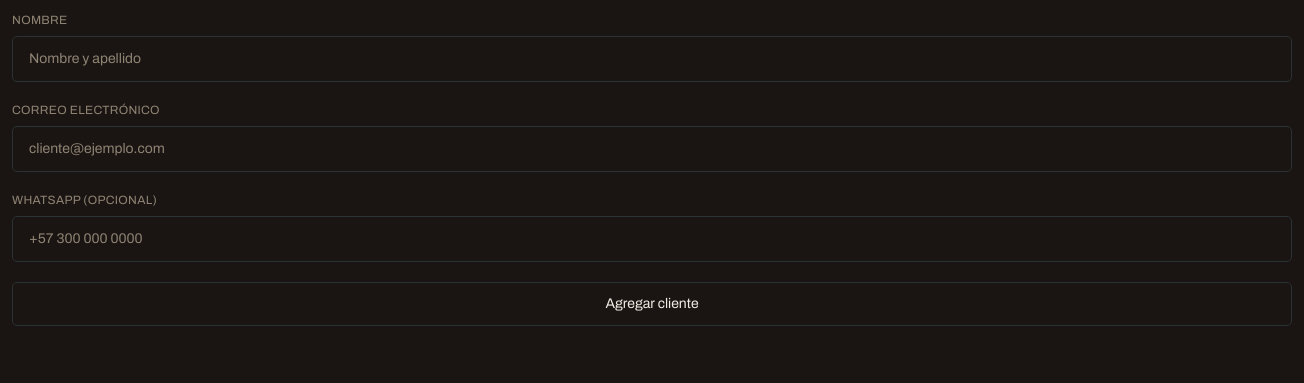
Scenario: ClientForm › shows the friendly duplicate-email message returned by the action
The image size is (1304, 383).
Step 1. Type "Ana" into the field labelled "Nombre" → (652, 59), box [12,36,1292,82]
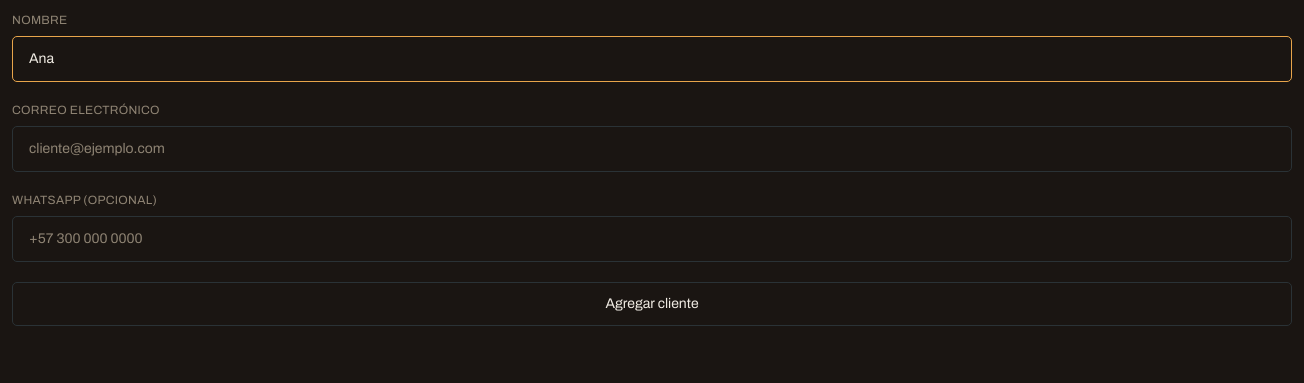
Step 2. Type "ana@example.com" into the field labelled "Correo electrónico" → (652, 149), box [12,126,1292,172]
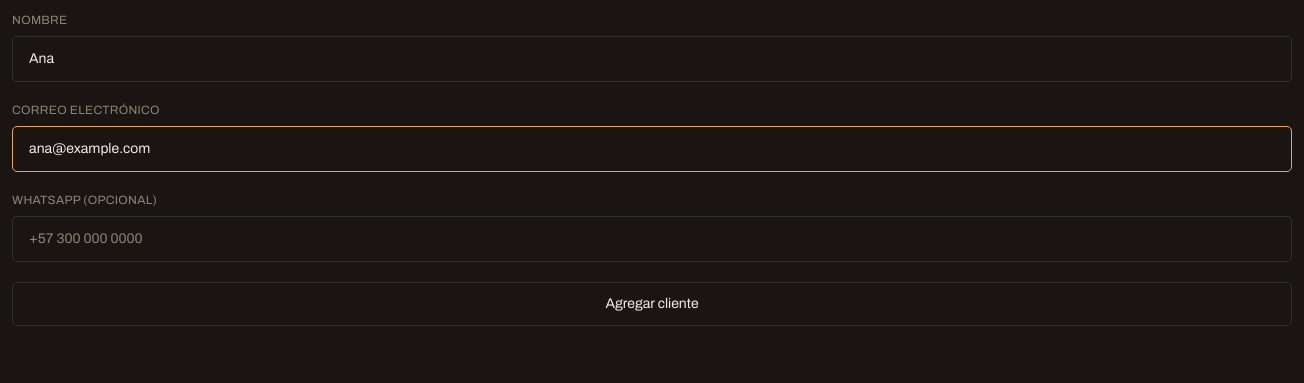
Step 3. Click the button "Agregar cliente" → (652, 304), box [12,282,1292,326]
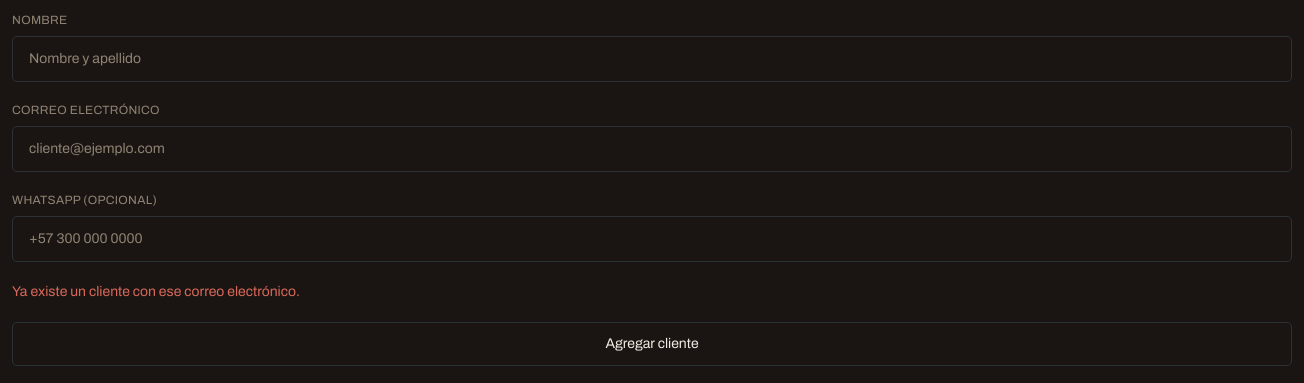
Expected: the text "Ya existe un cliente con ese correo electrónico." is shown, [12,284,300,299]
